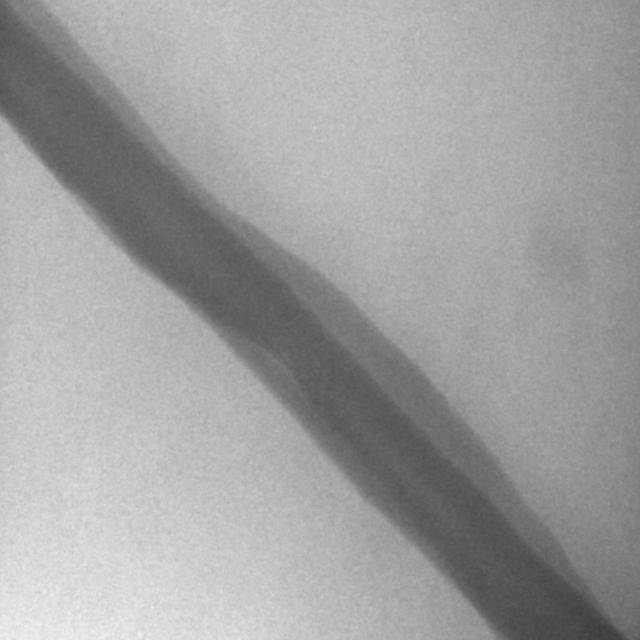unfused: (232, 335, 318, 416)
